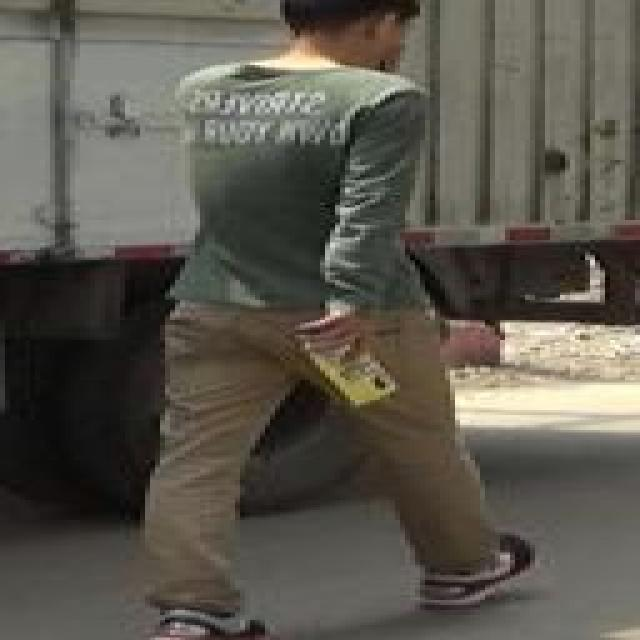adult: (110, 0, 534, 640)
